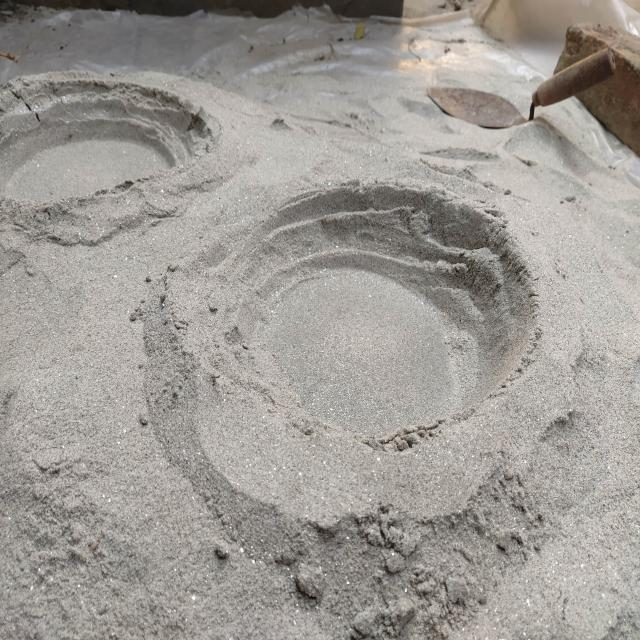C20: (225, 199, 531, 447), (1, 105, 188, 217)
